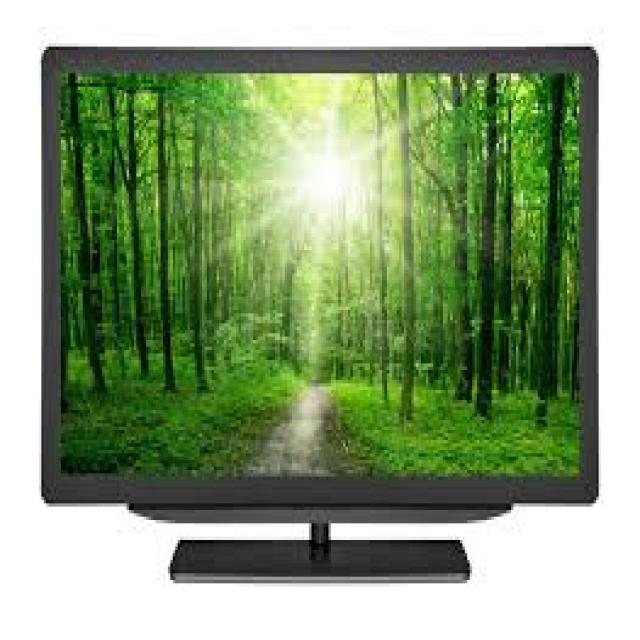tv: (40, 38, 601, 525)
